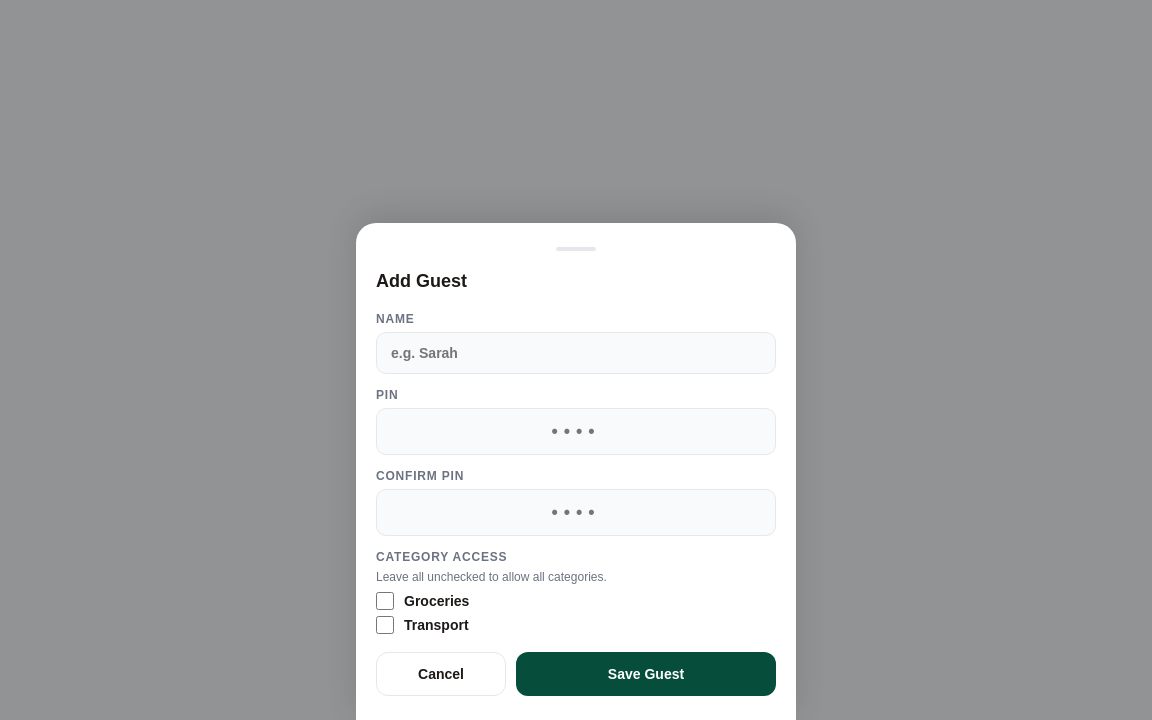
Scenario: AddGuestSheet › shows validation error when PIN is not 4 digits
Type "Sarah" into the field with test id "add-guest-name" at [576, 353], box [376, 332, 776, 374]
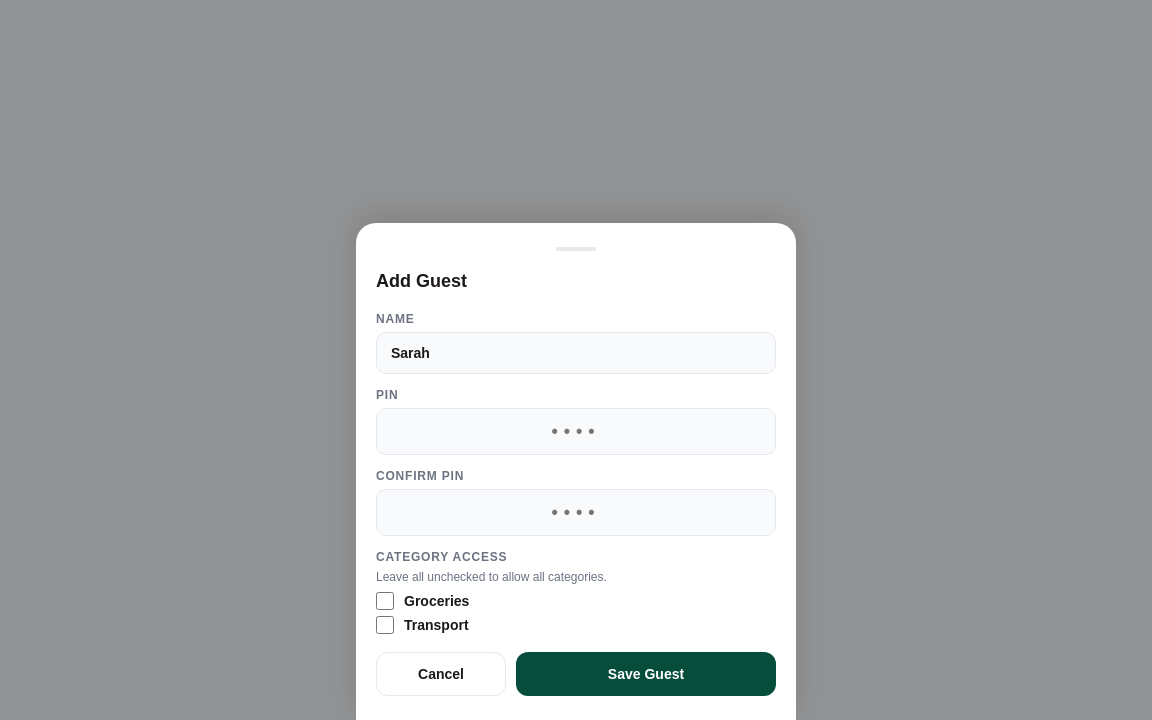
Type "12" into the password field with test id "add-guest-pin" at [576, 432], box [376, 408, 776, 455]
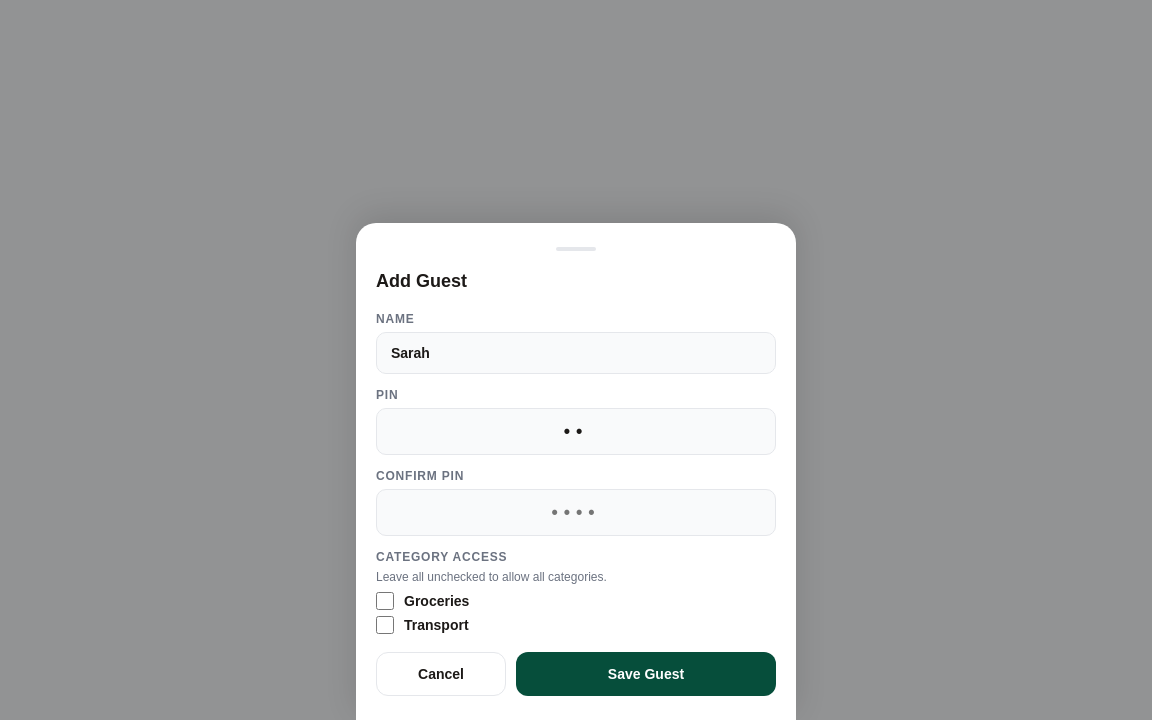
Click the button with test id "add-guest-save-btn" at [646, 674], box [516, 652, 776, 696]
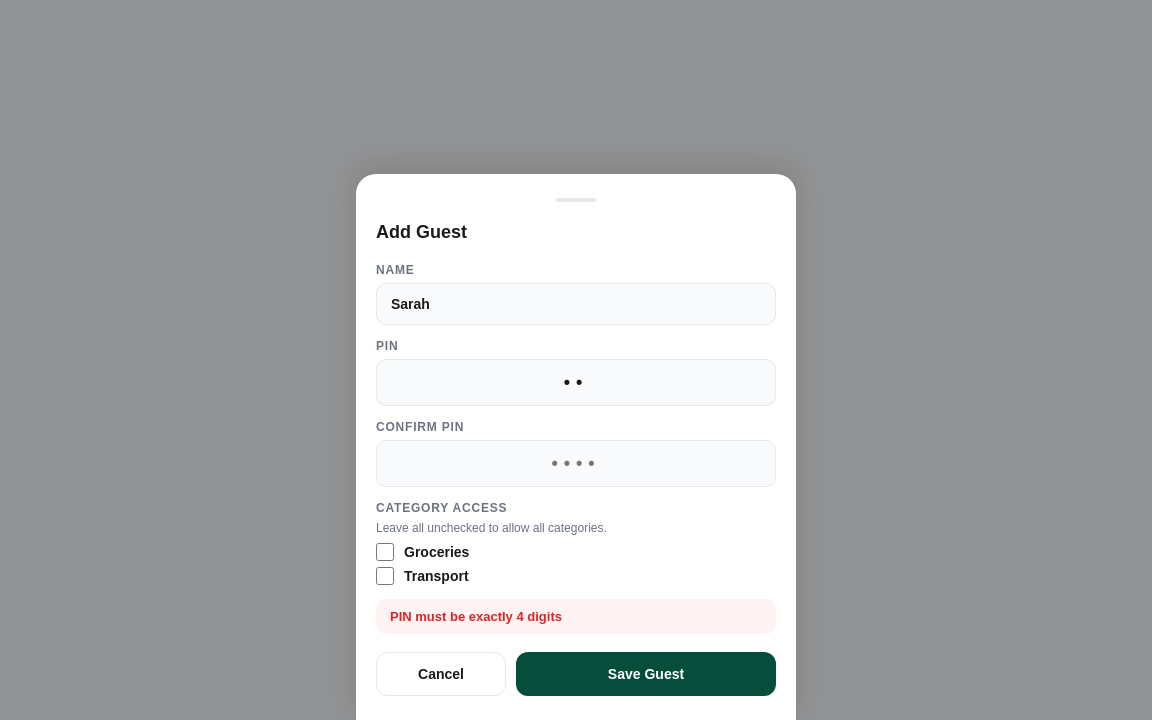
Now the text "PIN must be exactly 4 digits" is shown, box [390, 609, 562, 624]
